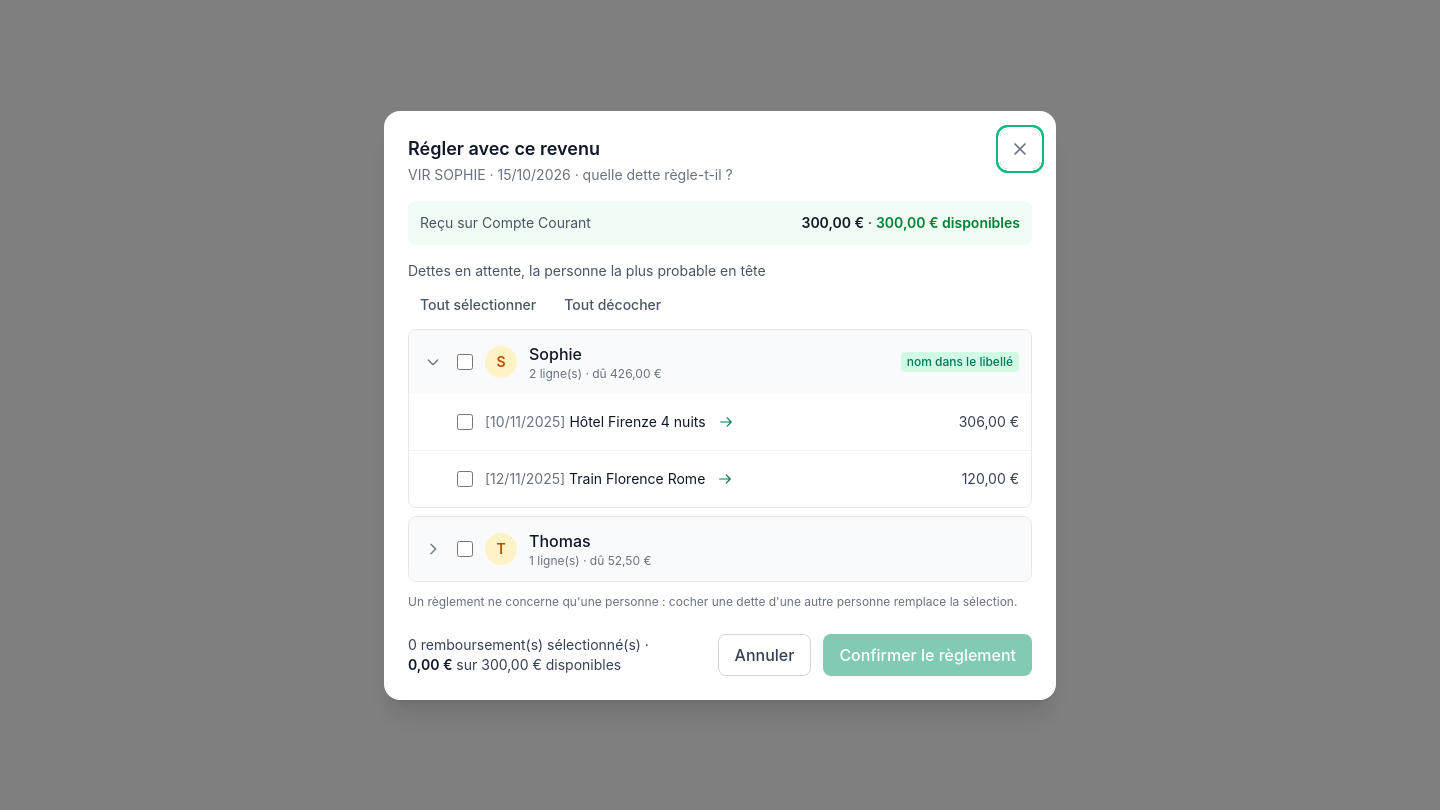
Test: IncomeSettlementModal › when the selection owes more than the income holds › cascades the income oldest first, with the step trail and the date
The width and height of the screenshot is (1440, 810).
Click the checkbox labelled "S Sophie 2 ligne(s) · dû 426,00 € nom dans le libellé" at coordinates (465, 362), box [457, 354, 473, 370]
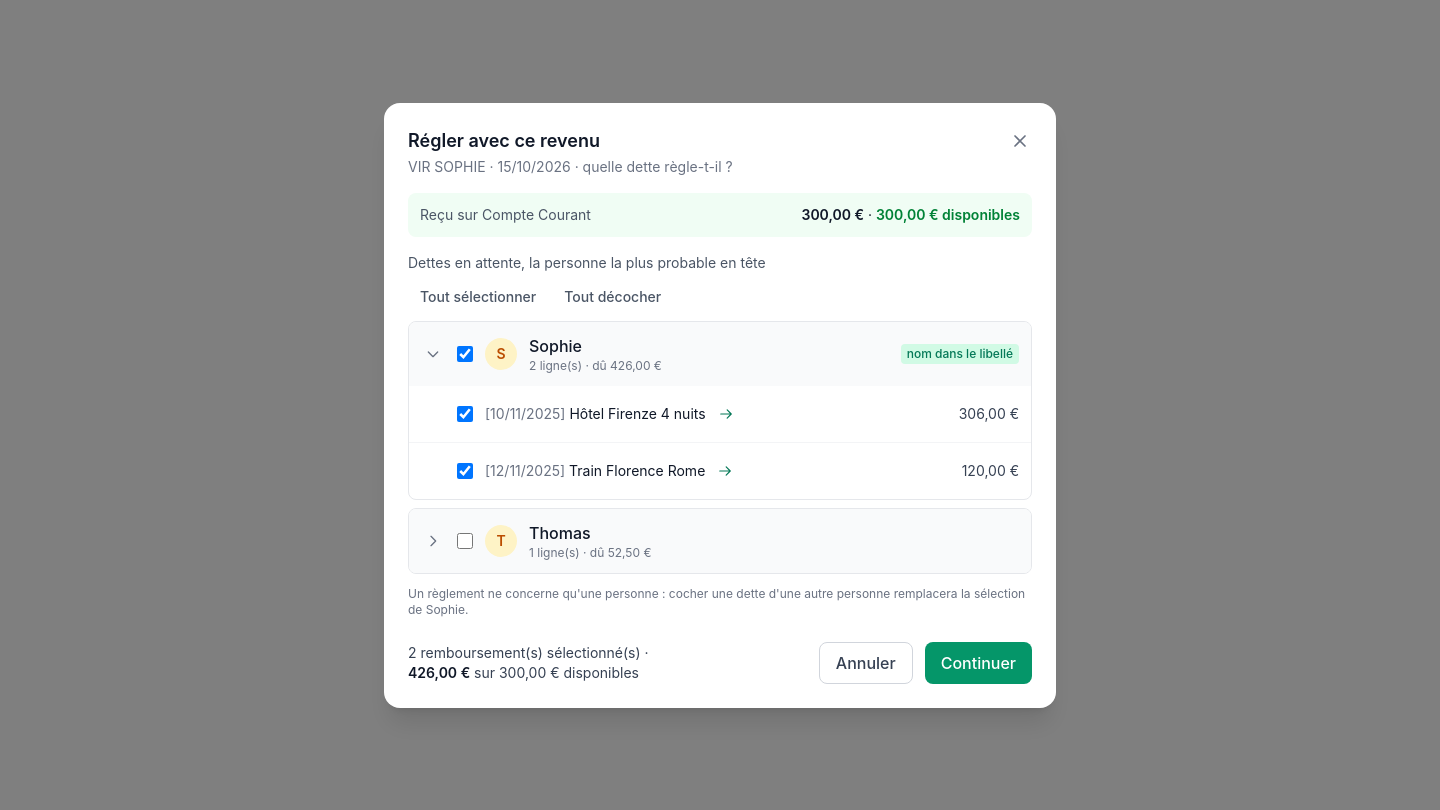
Click the button with test id "income-settlement-continue" at coordinates (978, 662), box [925, 642, 1032, 684]
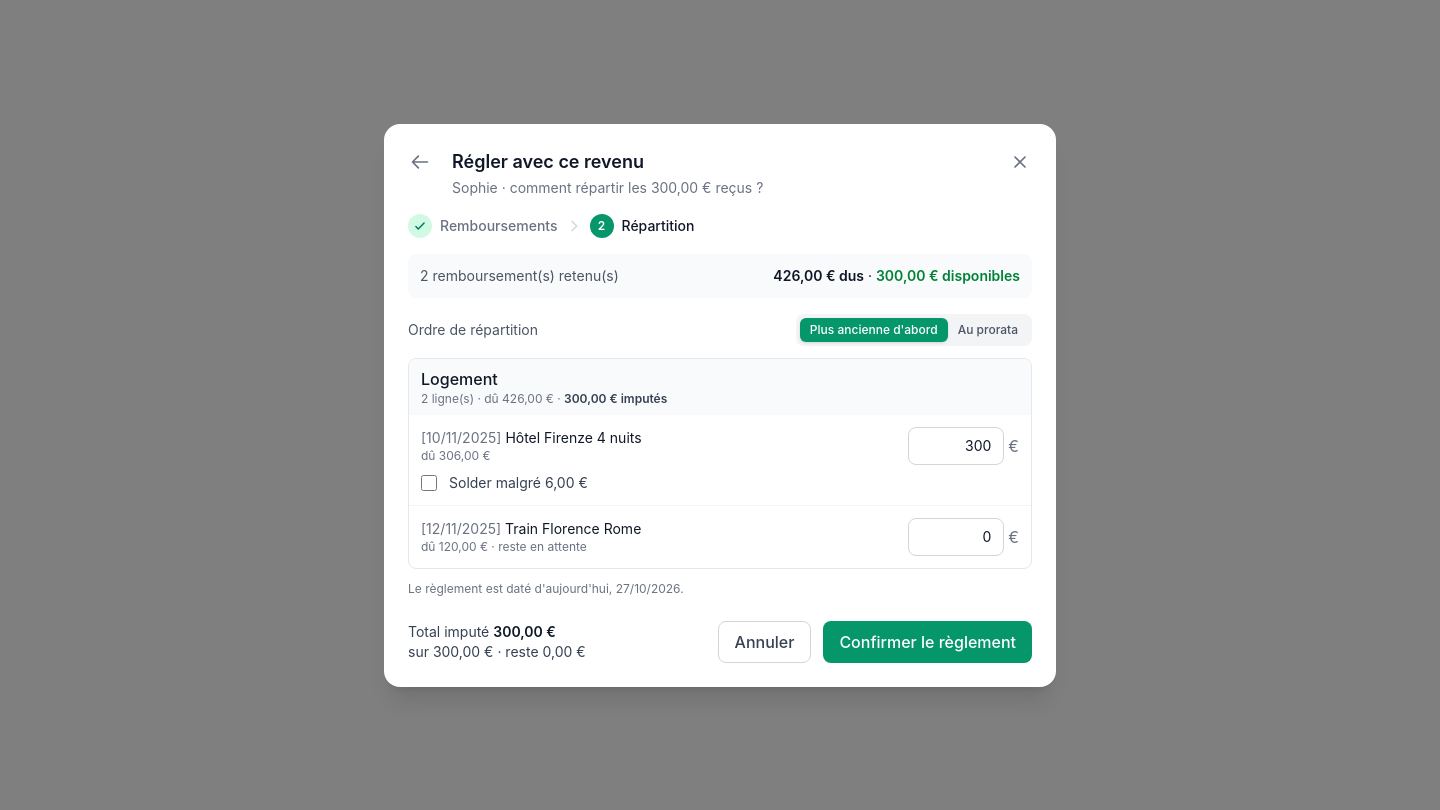
Expected: the element showing "2 Répartition" is shown, [590, 214, 694, 238]
Expected: the text "Sophie · comment répartir les" is shown, [452, 178, 763, 196]
Expected: the text "426,00 € dus" is shown, [773, 266, 864, 284]
